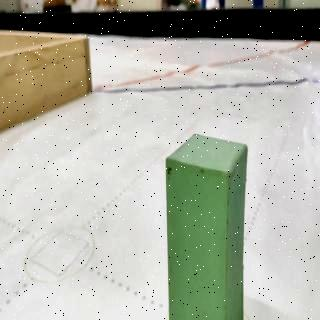greenbox: (164, 131, 250, 320)
